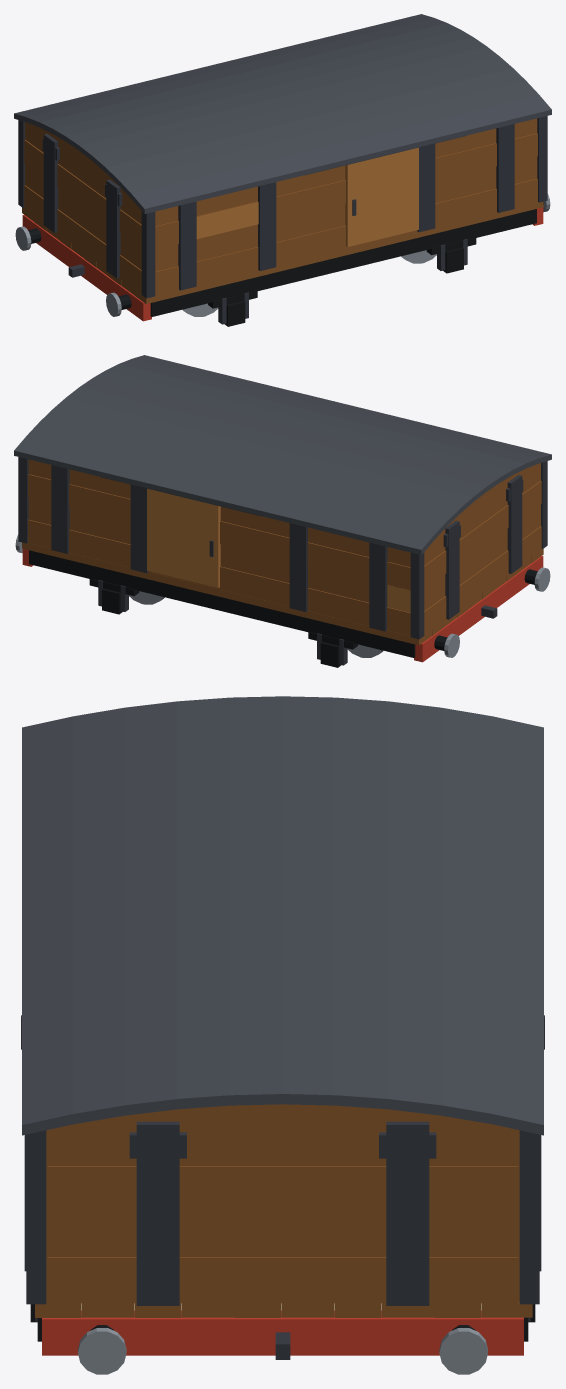
The model's file is WagonBoxVan_atlas.fbx.
The picture shows the model from 3 angles, top to bottom: view 1: azimuth 30°, elevation 25°; view 2: azimuth 150°, elevation 25°; view 3: azimuth 270°, elevation 25°; orthographic projection. The views are drawn at different scales.
Parts seen in each view (by area): view 1: WagonBoxVan_Roof_Roof_01, WagonBoxVan_Side_Timber_01, WagonBoxVan_End_Timber_01, WagonBoxVan_Strap_Iron_01, WagonBoxVan_Door_Door_01, WagonBoxVan_Solebar_Chassis_01, WagonBoxVan_Deck_Timber_01, WagonBoxVan_EndStrap_Iron_01, WagonBoxVan_BufferBeam_Buffer_01, WagonBoxVan_Repair_Repair_01, WagonBoxVan_CornerPost_Iron_01, WagonBoxVan_CornerPost_Iron_02 (+3 smaller); view 2: WagonBoxVan_Roof_Roof_01, WagonBoxVan_Side_Timber_02, WagonBoxVan_End_Timber_01, WagonBoxVan_Strap_Iron_02, WagonBoxVan_Door_Door_02, WagonBoxVan_Solebar_Chassis_02, WagonBoxVan_Deck_Timber_01, WagonBoxVan_EndStrap_Iron_01, WagonBoxVan_BufferBeam_Buffer_01, WagonBoxVan_CornerPost_Iron_03, WagonBoxVan_CornerPost_Iron_04, WagonBoxVan_CornerPost_Iron_01 (+3 smaller); view 3: WagonBoxVan_Roof_Roof_01, WagonBoxVan_End_Timber_02, WagonBoxVan_EndStrap_Iron_02, WagonBoxVan_BufferBeam_Buffer_02, WagonBoxVan_Deck_Timber_01, WagonBoxVan_EndGable_Timber_02, WagonBoxVan_CornerPost_Iron_02, WagonBoxVan_CornerPost_Iron_04, WagonBoxVan_BufferHead_Steel_03, WagonBoxVan_BufferHead_Steel_04, WagonBoxVan_Vent_Iron_02.
Boxes of the visible parts, <box> form: WagonBoxVan_Roof_Roof_01: <box>14,14,551,213</box>; WagonBoxVan_Side_Timber_01: <box>155,118,537,294</box>; WagonBoxVan_End_Timber_01: <box>24,122,141,293</box>; WagonBoxVan_Strap_Iron_01: <box>178,124,514,290</box>; WagonBoxVan_Door_Door_01: <box>345,147,418,246</box>; WagonBoxVan_Solebar_Chassis_01: <box>150,209,536,316</box>; WagonBoxVan_Deck_Timber_01: <box>22,201,543,303</box>; WagonBoxVan_EndStrap_Iron_01: <box>43,134,120,278</box>; WagonBoxVan_BufferBeam_Buffer_01: <box>22,215,151,321</box>; WagonBoxVan_Repair_Repair_01: <box>196,202,258,239</box>; WagonBoxVan_CornerPost_Iron_01: <box>141,211,155,298</box>; WagonBoxVan_CornerPost_Iron_02: <box>537,116,547,202</box>; WagonBoxVan_Roof_Roof_01: <box>14,355,551,554</box>; WagonBoxVan_Side_Timber_02: <box>28,459,410,635</box>; WagonBoxVan_End_Timber_01: <box>424,463,541,634</box>; WagonBoxVan_Strap_Iron_02: <box>51,465,387,631</box>; WagonBoxVan_Door_Door_02: <box>147,488,220,587</box>; WagonBoxVan_Solebar_Chassis_02: <box>29,550,415,657</box>; WagonBoxVan_Deck_Timber_01: <box>22,542,543,645</box>; WagonBoxVan_EndStrap_Iron_01: <box>445,475,522,619</box>; WagonBoxVan_BufferBeam_Buffer_01: <box>414,556,543,662</box>; WagonBoxVan_CornerPost_Iron_03: <box>410,552,424,639</box>; WagonBoxVan_CornerPost_Iron_04: <box>18,457,28,543</box>; WagonBoxVan_CornerPost_Iron_01: <box>541,461,547,548</box>; WagonBoxVan_Roof_Roof_01: <box>22,696,543,1135</box>; WagonBoxVan_End_Timber_02: <box>47,1120,518,1303</box>; WagonBoxVan_EndStrap_Iron_02: <box>136,1121,429,1305</box>; WagonBoxVan_BufferBeam_Buffer_02: <box>42,1311,523,1355</box>; WagonBoxVan_Deck_Timber_01: <box>35,1302,532,1317</box>; WagonBoxVan_EndGable_Timber_02: <box>99,1104,466,1120</box>; WagonBoxVan_CornerPost_Iron_02: <box>26,1130,46,1304</box>; WagonBoxVan_CornerPost_Iron_04: <box>519,1130,539,1304</box>; WagonBoxVan_BufferHead_Steel_03: <box>78,1328,126,1374</box>; WagonBoxVan_BufferHead_Steel_04: <box>439,1328,487,1374</box>; WagonBoxVan_Vent_Iron_02: <box>129,1132,436,1158</box>.
Size of what is drawn, in the model's own units: 34.8 by 13.2 by 18.26.
Materials: 1 (1 with a texture image).
